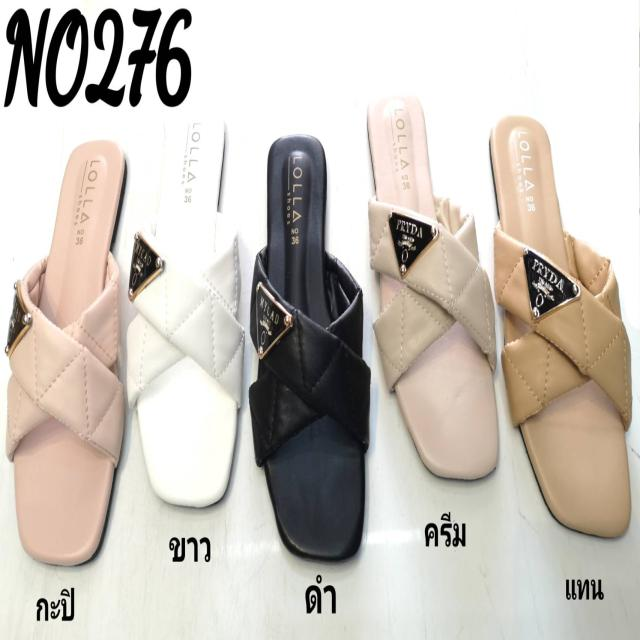black: (253, 131, 367, 562)
cream: (367, 98, 500, 484)
kapi: (13, 137, 122, 574)
tan: (492, 119, 633, 548)
white: (132, 112, 242, 518)
